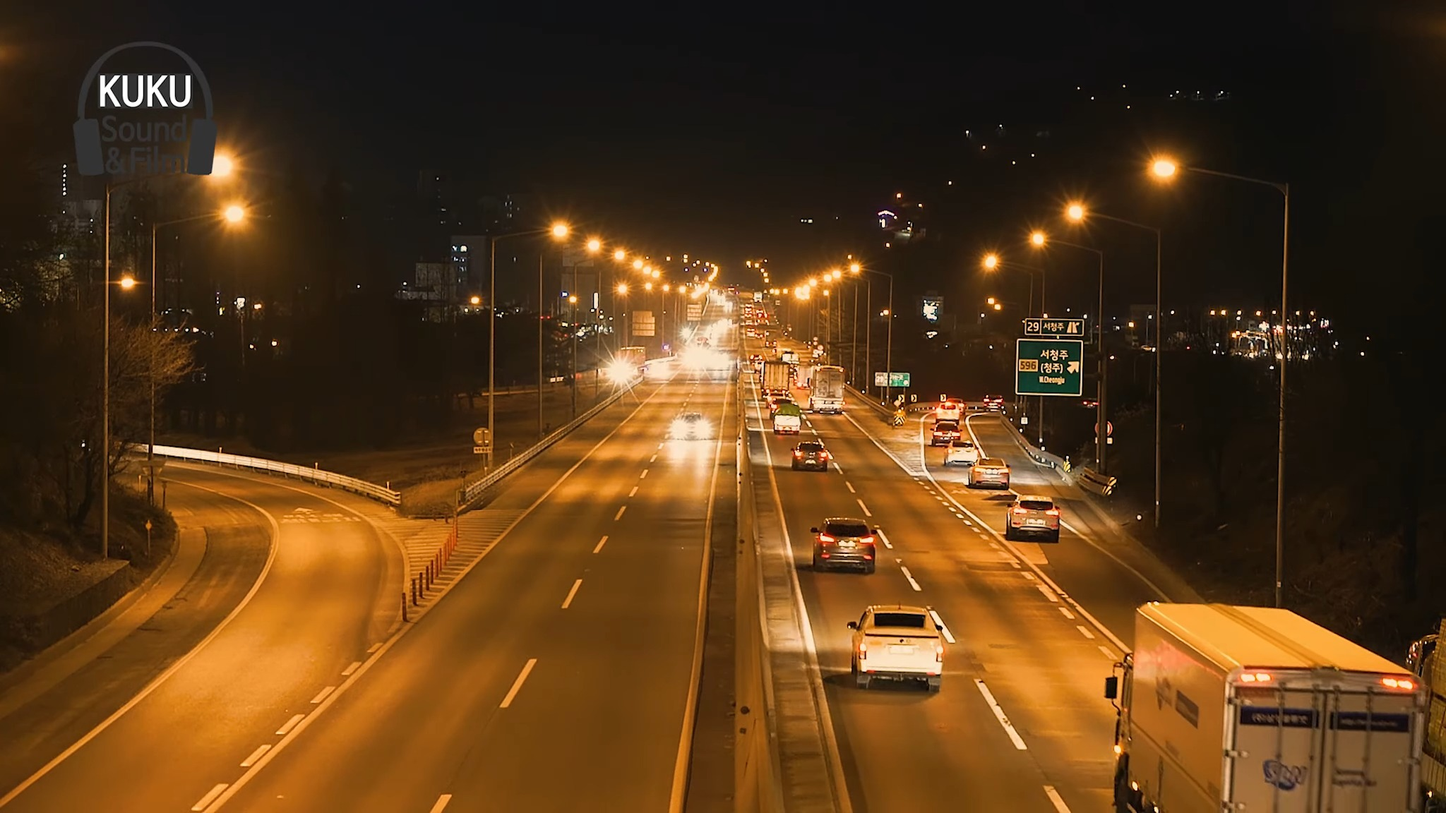car: (849, 604, 949, 696), (812, 514, 881, 577), (1003, 487, 1062, 543), (961, 456, 1010, 491), (793, 441, 826, 470)
